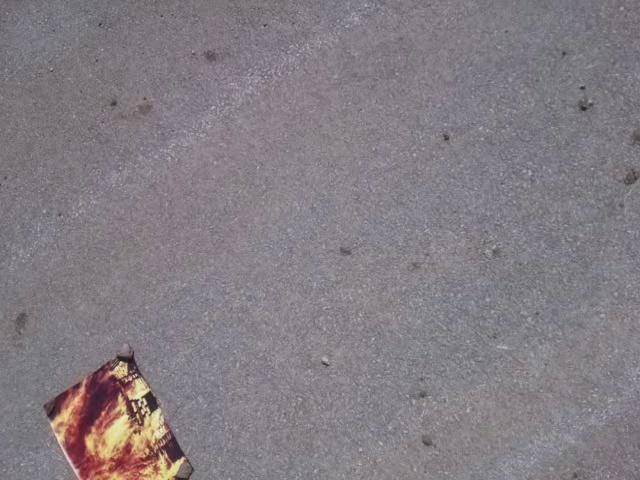fire-poster: (41, 341, 195, 479)
